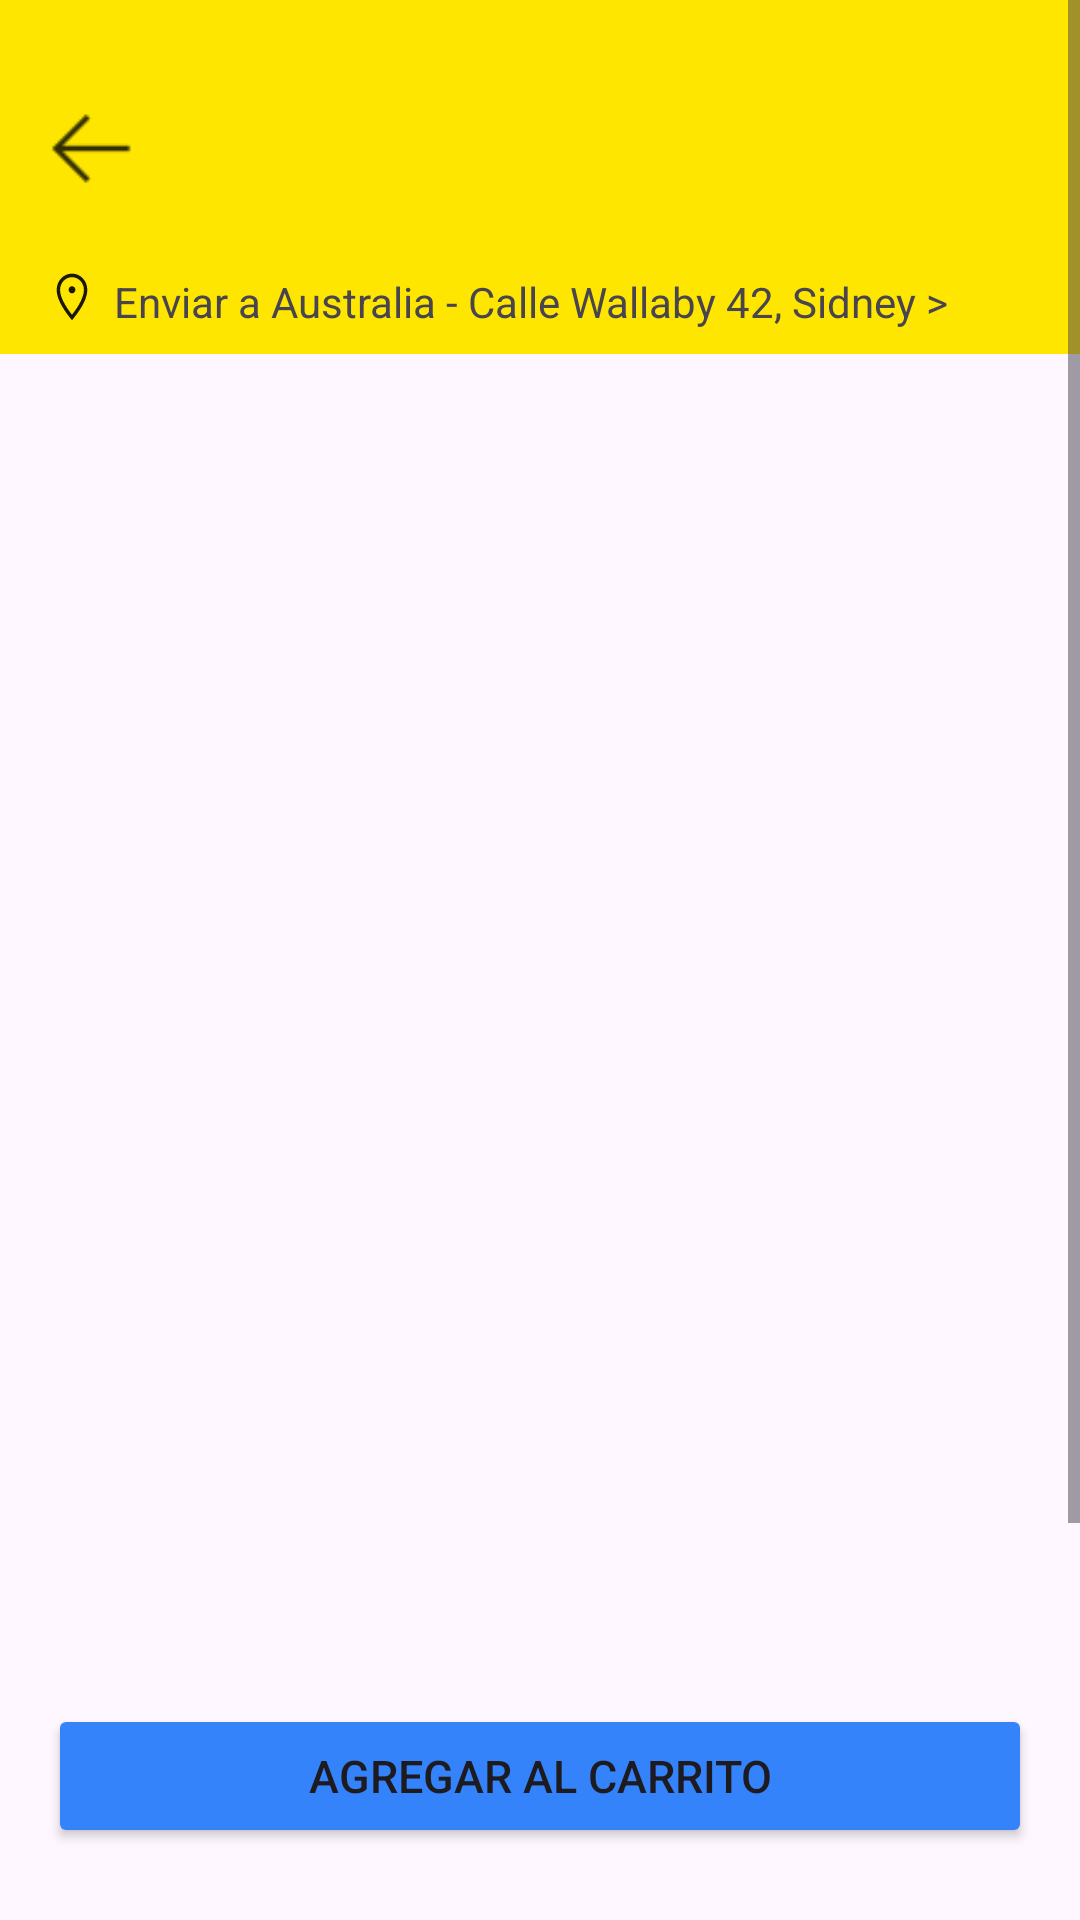

Named icons in this screenshot (1080w x 1920h) and their centers, [x,y]:
arrow left: [91,148]
ubication: [72,296]
